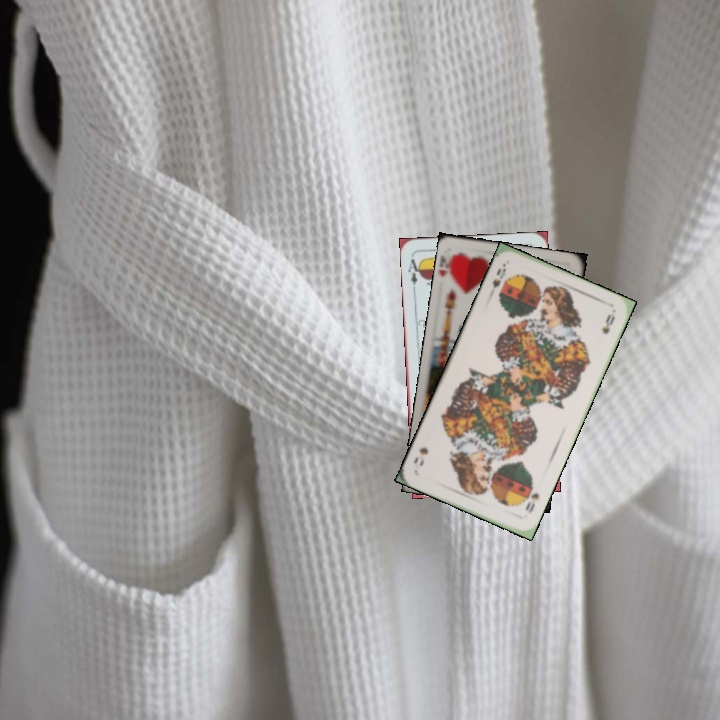EA: (404, 253, 424, 293)
HK: (437, 250, 459, 281)
SO: (521, 488, 542, 516), (488, 264, 509, 290)
